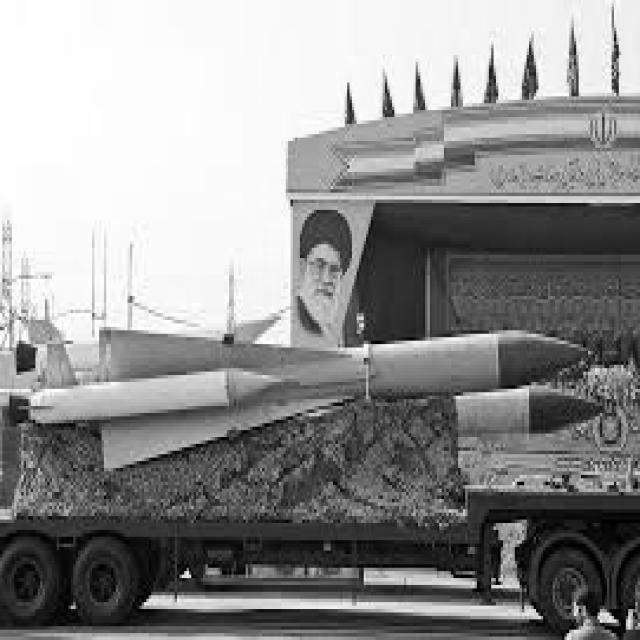Missile: (4, 359, 281, 431), (318, 325, 594, 396)
